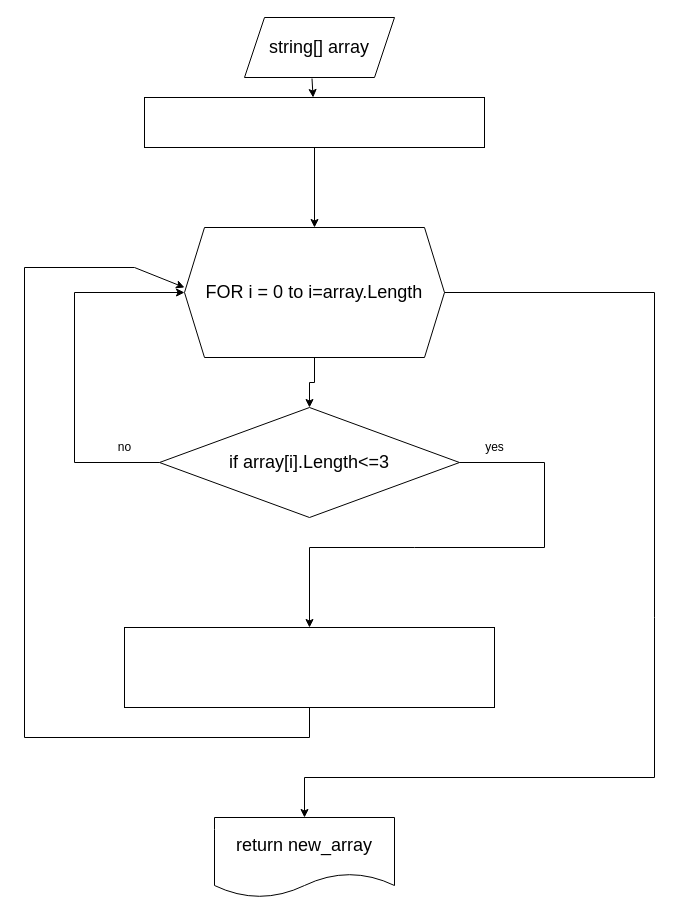
Some shapes in this 680 by 915 pixel diagram are drawn without their labels. Each missing label, with the centre of its shape:
"new_Array.Length = new_Array.Length + 1 new_array[LastElement] = array[i]" goes at point (309, 667).
"string[] new_array.Length = 0" goes at point (314, 122).
